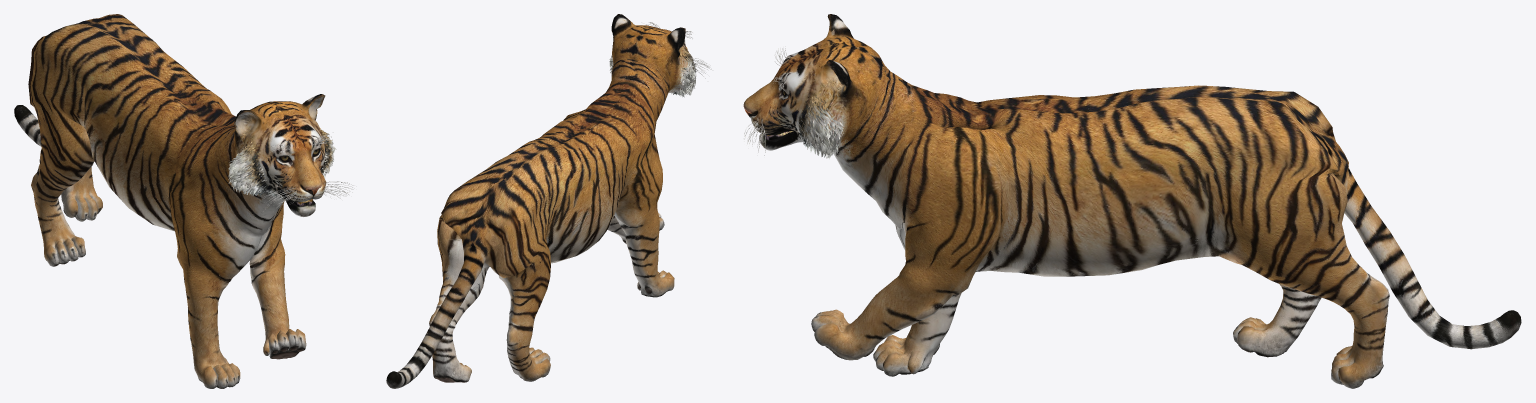
3 views of the same model, side by side, from view 1: azimuth 30°, elevation 25°; view 2: azimuth 150°, elevation 25°; view 3: azimuth 270°, elevation 25° (orthographic). The views are drawn at different scales.
Parts seen in each view (by area): view 1: MorphMainGroup; view 2: MorphMainGroup; view 3: MorphMainGroup.
Part boxes in pixels (x1,y1,x2,y2): MorphMainGroup: (14, 14, 353, 388); MorphMainGroup: (386, 14, 711, 388); MorphMainGroup: (743, 14, 1521, 388).
Bounding box in the file's own units: 47.25 × 119 × 239.
1 material, 1 textured.
